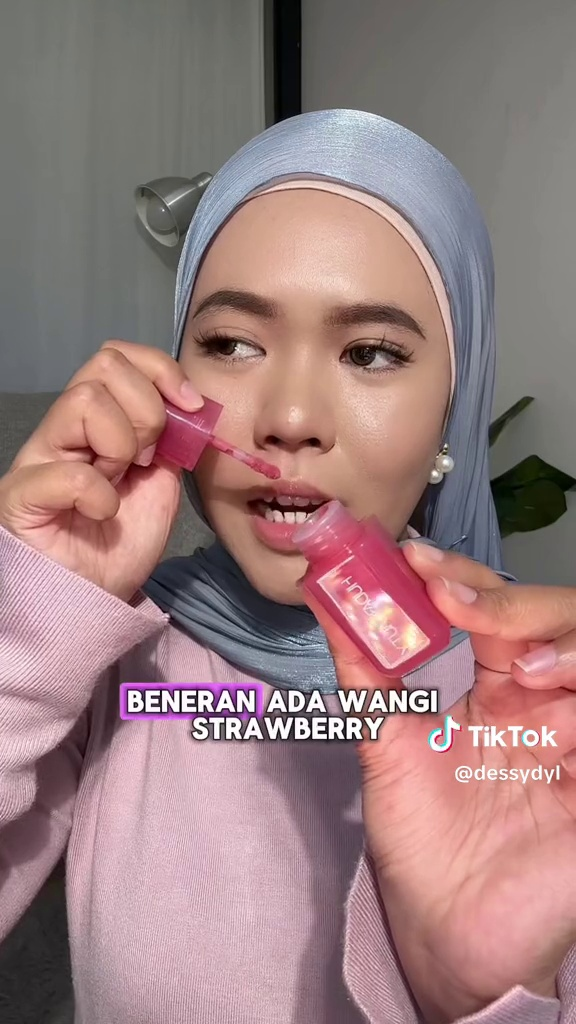train' :'yolo_data/train/images',: (286, 489, 464, 681), (97, 367, 281, 503)
